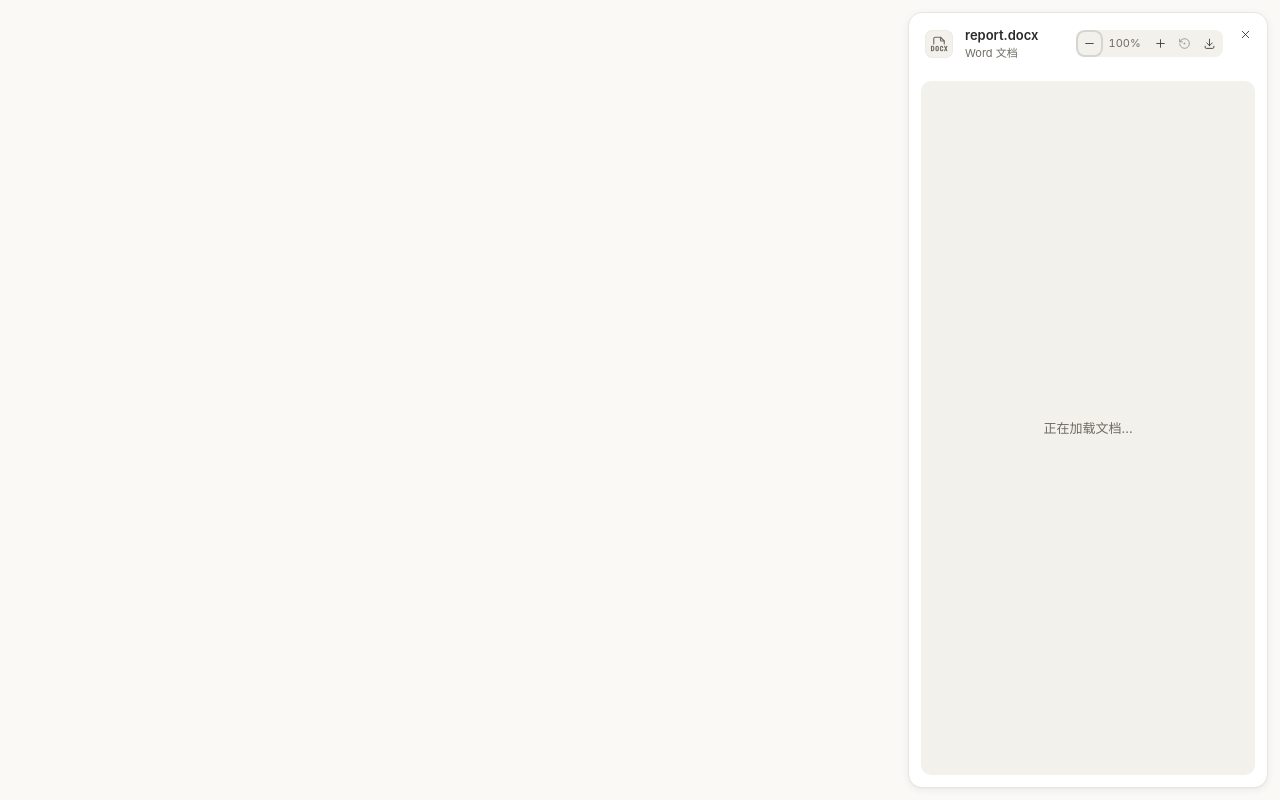
Test: DocPreviewPanel › zoom buttons update the percentage label and the inline style on the stage
The width and height of the screenshot is (1280, 800).
Expected: the button "100%" is shown, [1102, 32, 1147, 55]
Click the button titled "放大". click: (1160, 44)
box: [1149, 32, 1172, 55]
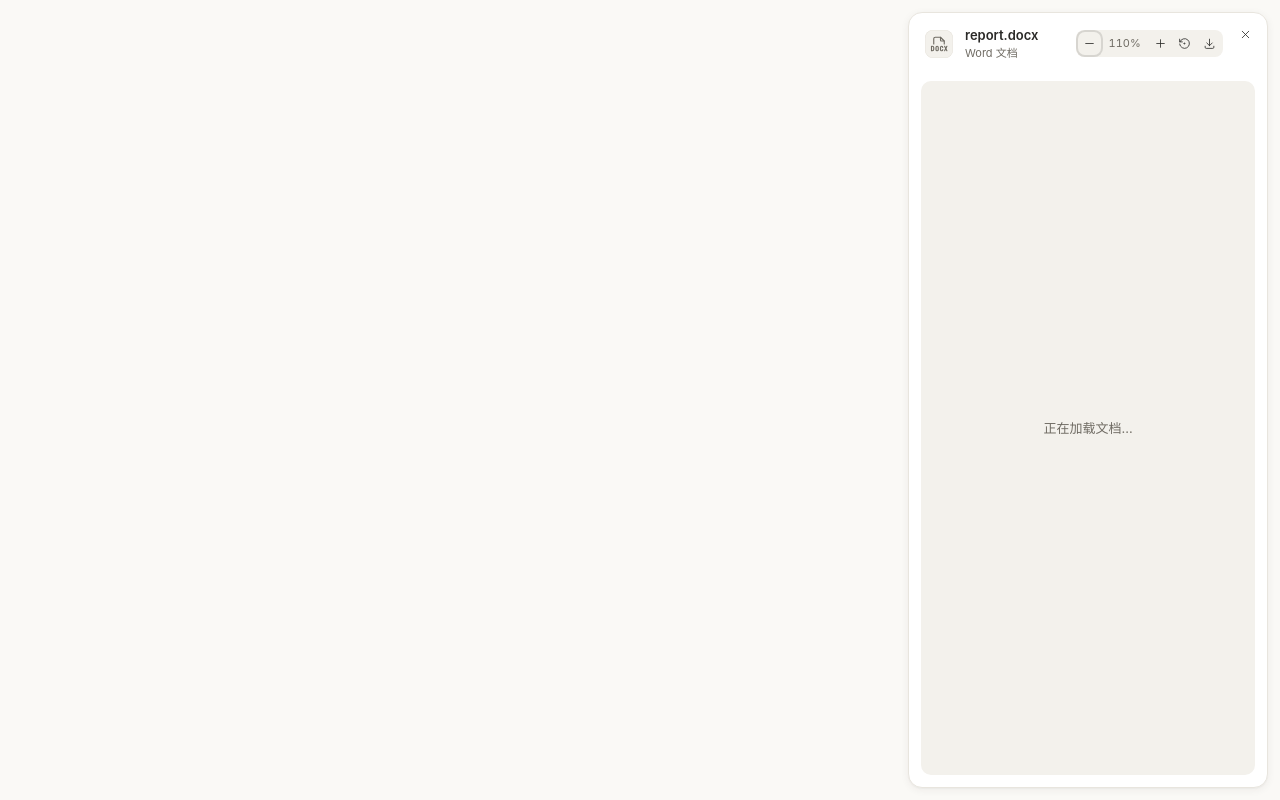
Expected: the button "110%" is shown, [1102, 32, 1147, 55]
Click the button titled "缩小". click: (1089, 44)
box: [1078, 32, 1101, 55]
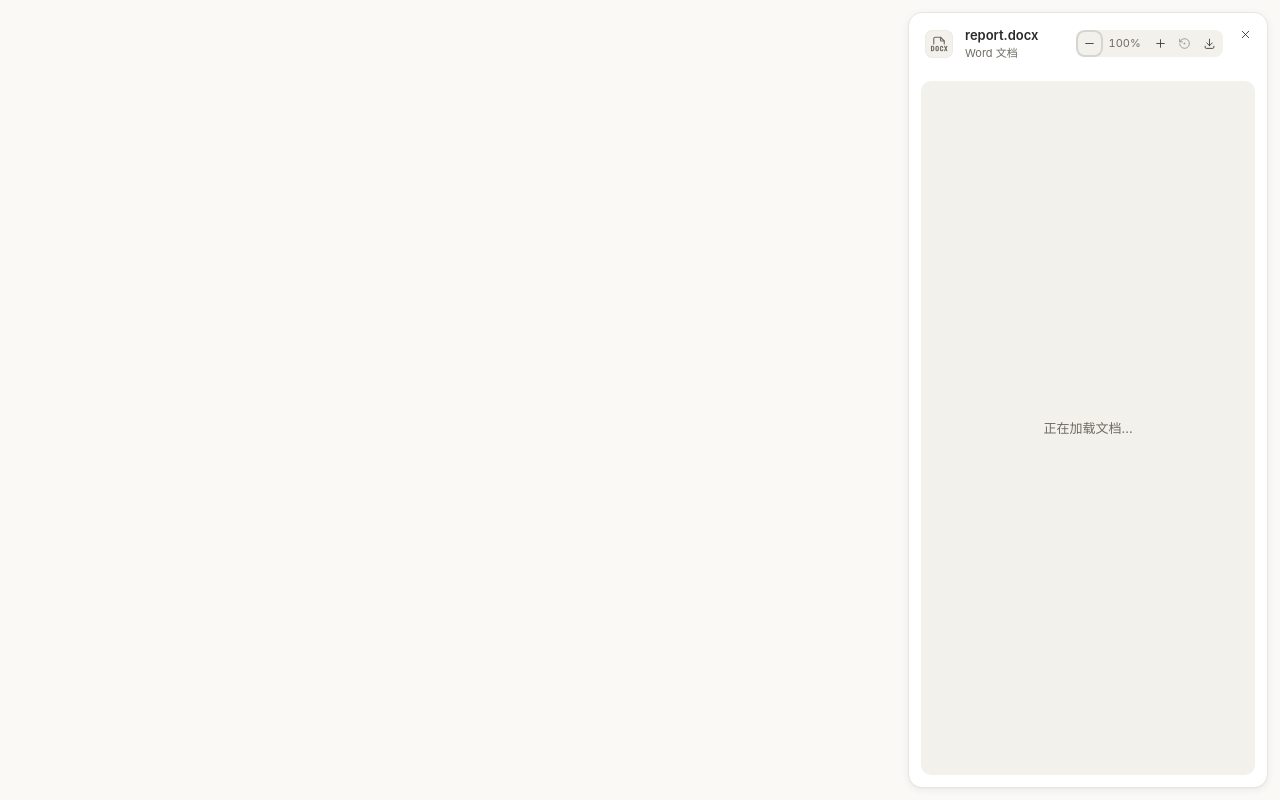
Click the button titled "缩小". click: (1089, 44)
box: [1078, 32, 1101, 55]
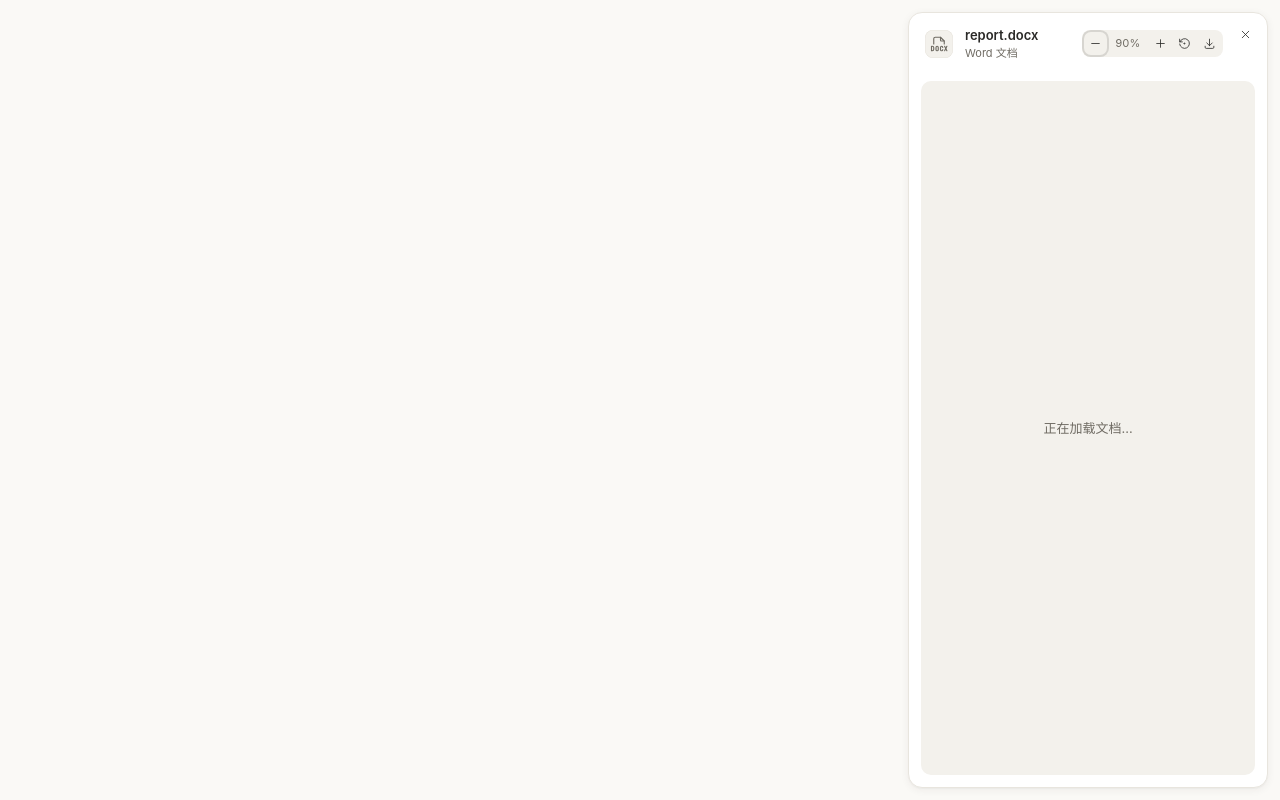
Expected: the button "90%" is shown
// The percentage label itself is a reset trigger.
Click the button "90%". click: (1128, 44)
box: [1109, 32, 1147, 55]
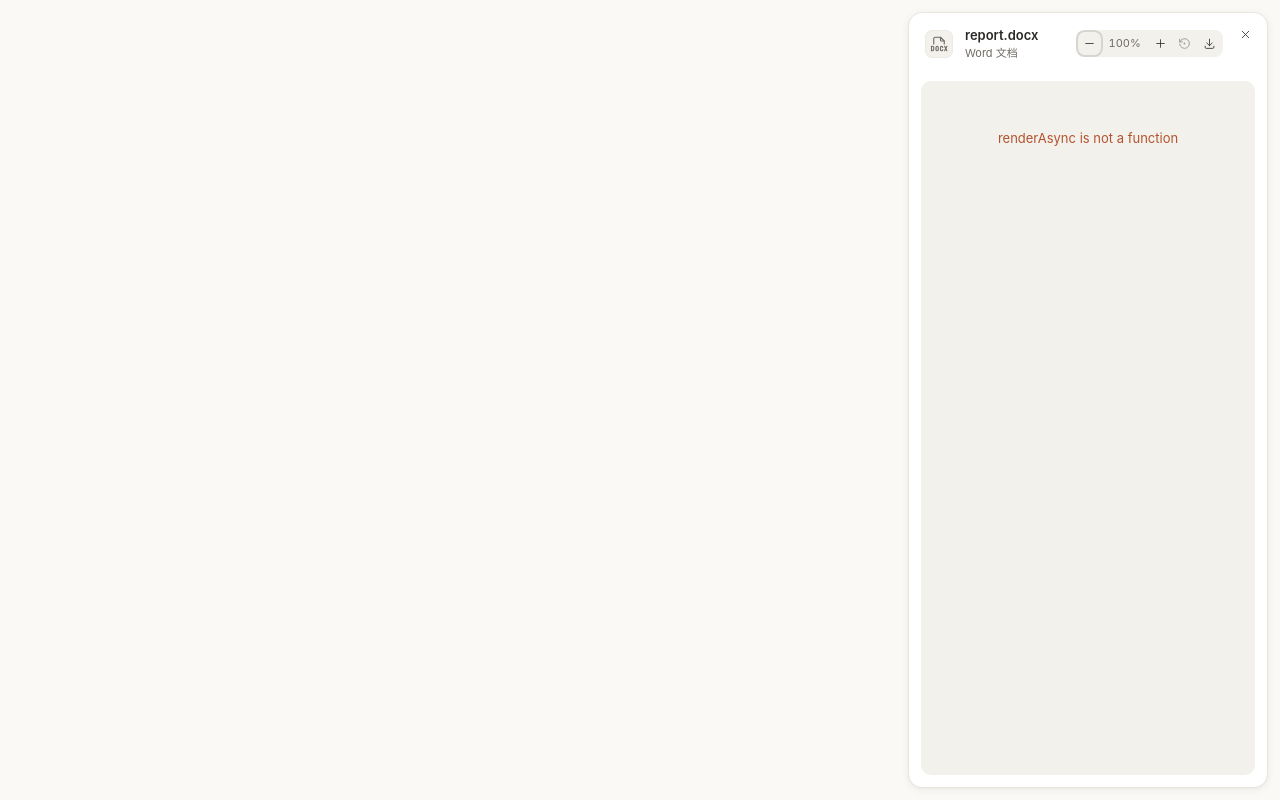
Expected: the button "100%" is shown, [1102, 32, 1147, 55]
